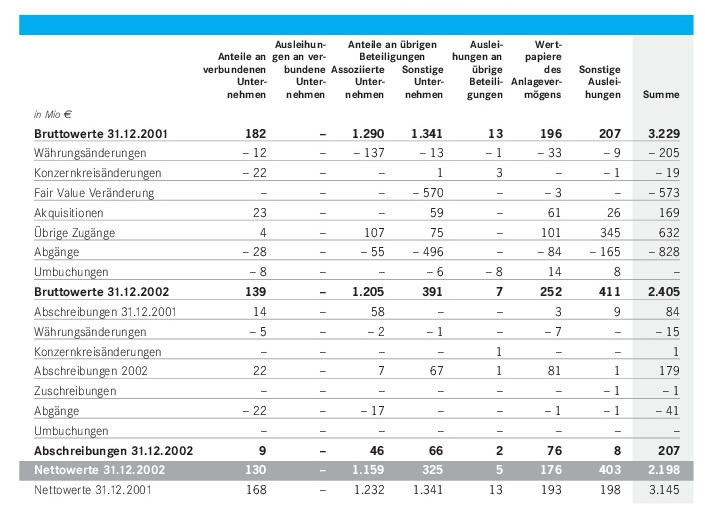table: (0, 0, 705, 515)
